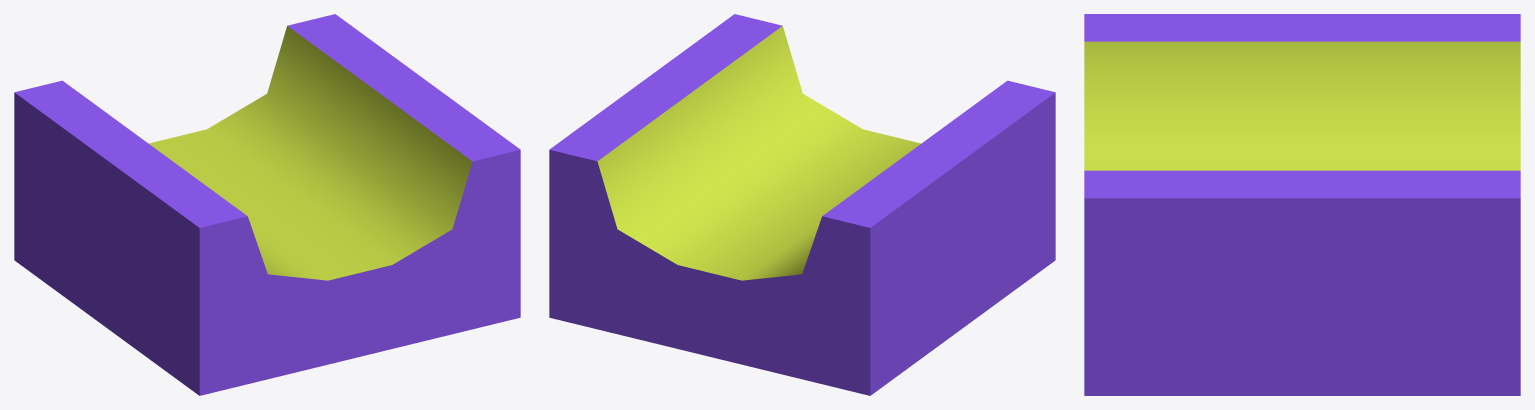
File: straight.fbx
3 renders of one model, left to right at view 1: azimuth 30°, elevation 25°; view 2: azimuth 150°, elevation 25°; view 3: azimuth 270°, elevation 25°, orthographic. The views are drawn at different scales.
Parts seen in each view (by area): view 1: straight; view 2: straight; view 3: straight.
Part boxes in pixels (bbox=[...]): straight: bbox=[14, 14, 520, 395]; straight: bbox=[549, 14, 1055, 395]; straight: bbox=[1084, 14, 1520, 395].
Size of the model in its own units: 10 by 5 by 10.
